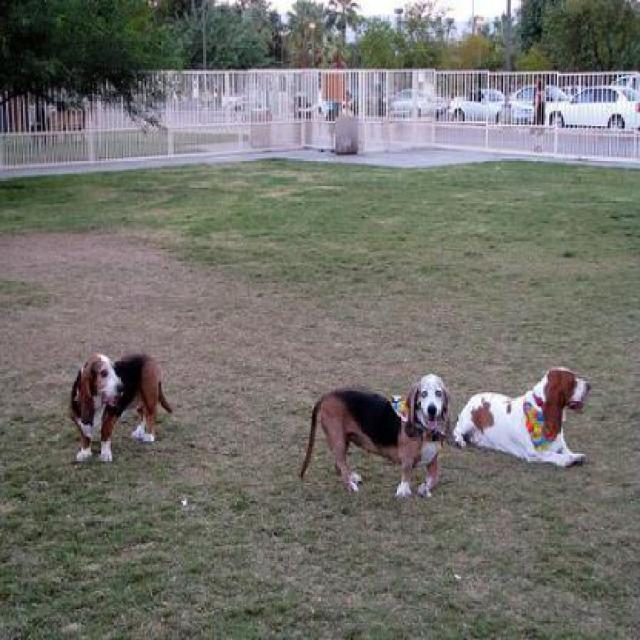Dog: (297, 366, 457, 505), (446, 364, 594, 470), (68, 348, 177, 463)
